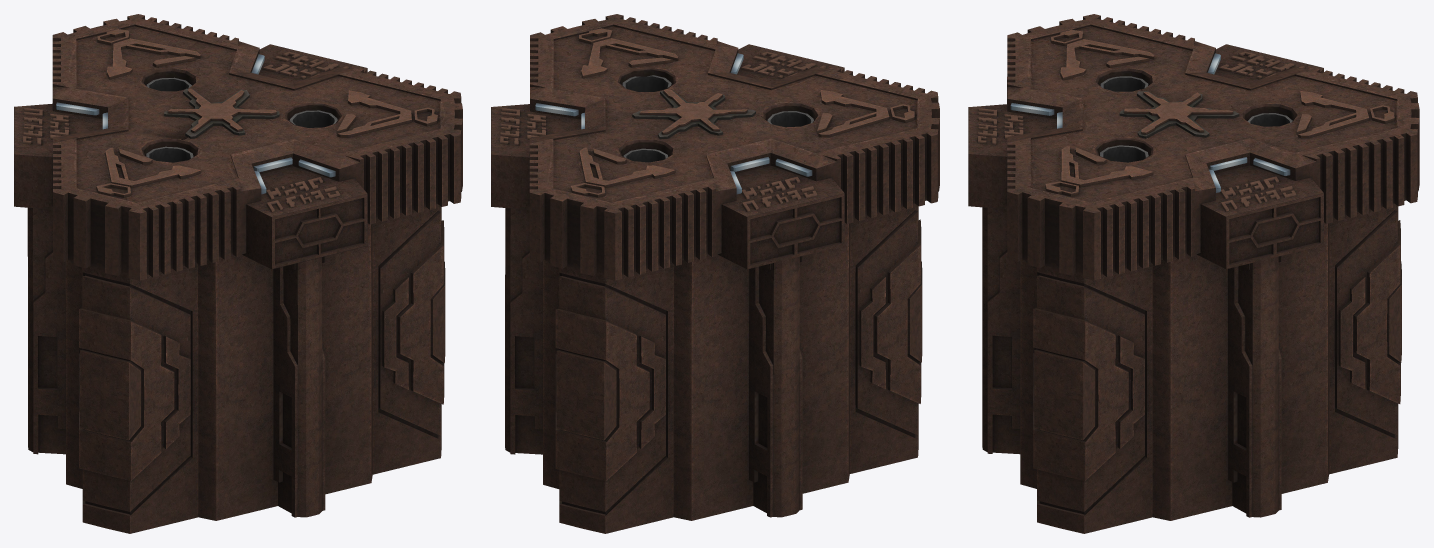
File: zpmhub.obj
3 views of the same model, side by side, from view 1: azimuth 30°, elevation 25°; view 2: azimuth 150°, elevation 25°; view 3: azimuth 270°, elevation 25° (orthographic).
Parts seen in each view (by area): view 1: pg_zpm_hub.001; view 2: pg_zpm_hub.001; view 3: pg_zpm_hub.001.
Part boxes in pixels (x1,y1,x2,y2): pg_zpm_hub.001: [14, 14, 462, 533]; pg_zpm_hub.001: [491, 14, 939, 533]; pg_zpm_hub.001: [968, 14, 1419, 533].
Size of the model in its own units: 59.49 by 46.75 by 56.96.
